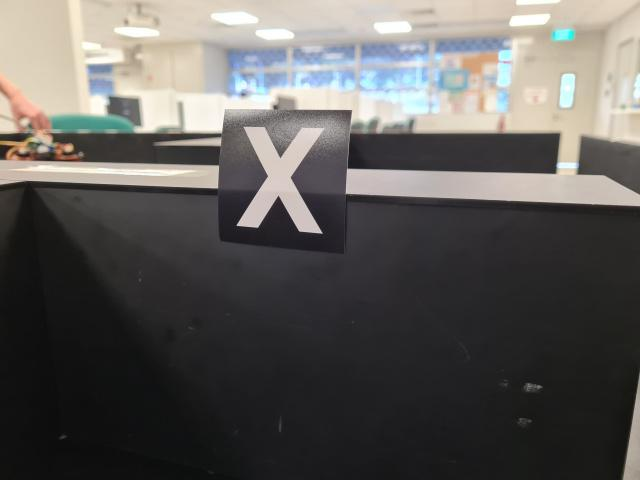x: (219, 107, 353, 254)
